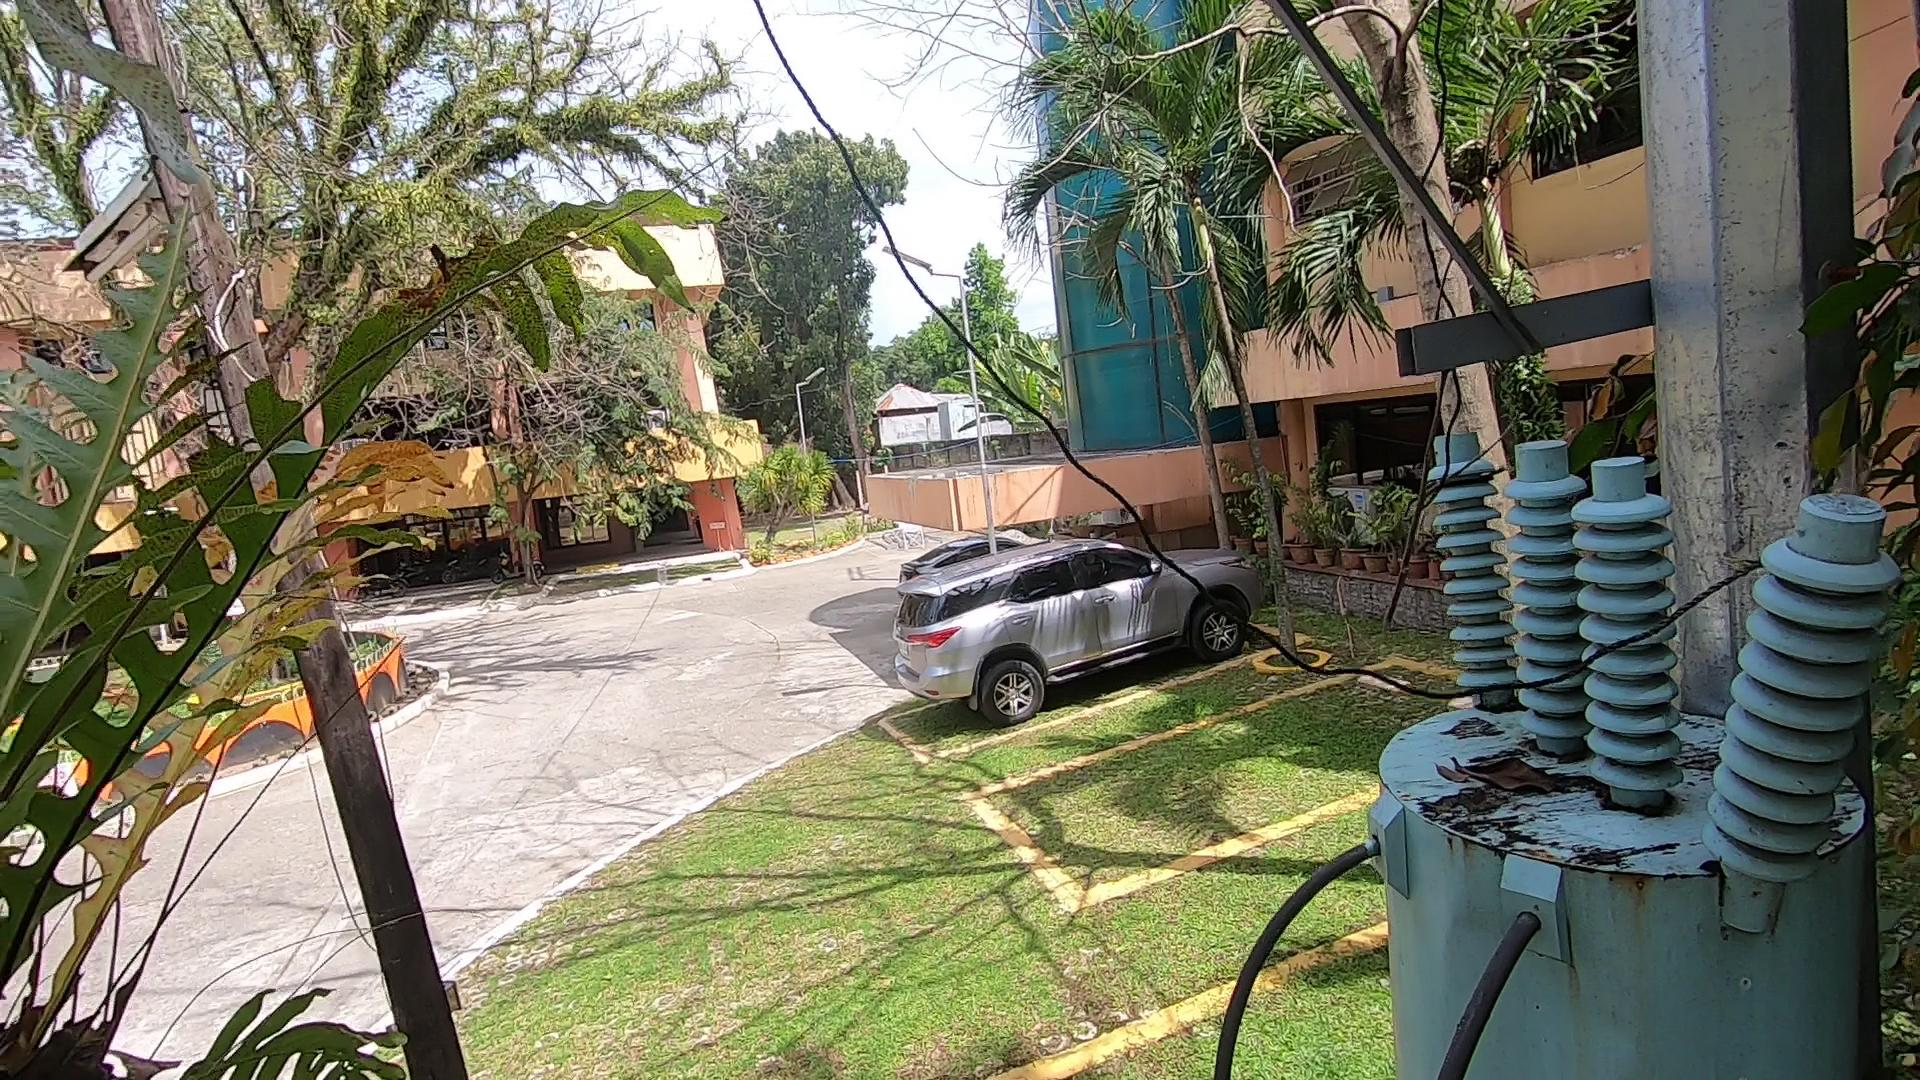leaf: (1424, 738, 1594, 804), (1469, 688, 1524, 713)
tree branch: (1393, 135, 1516, 676)
